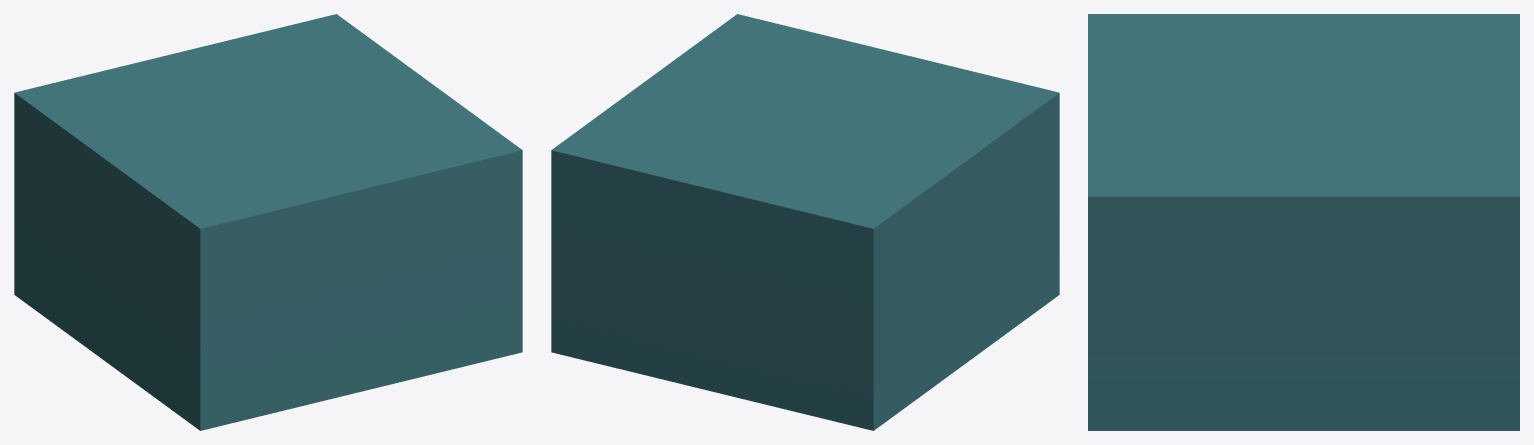
File: btl_G_gym.dae
3 renders of one model, left to right at view 1: azimuth 30°, elevation 25°; view 2: azimuth 150°, elevation 25°; view 3: azimuth 270°, elevation 25°, orthographic. The views are drawn at different scales.
Parts seen in each view (by area): view 1: btl_G_gym_base01_OptMesh_1_0_node; view 2: btl_G_gym_base01_OptMesh_1_0_node; view 3: btl_G_gym_base01_OptMesh_1_0_node.
Boxes of the visible parts, x1=… form: btl_G_gym_base01_OptMesh_1_0_node: x1=14, y1=14, x2=522, y2=430; btl_G_gym_base01_OptMesh_1_0_node: x1=551, y1=14, x2=1059, y2=430; btl_G_gym_base01_OptMesh_1_0_node: x1=1088, y1=14, x2=1519, y2=430.
Size of the model in its own units: 4000 by 2396 by 4000.
